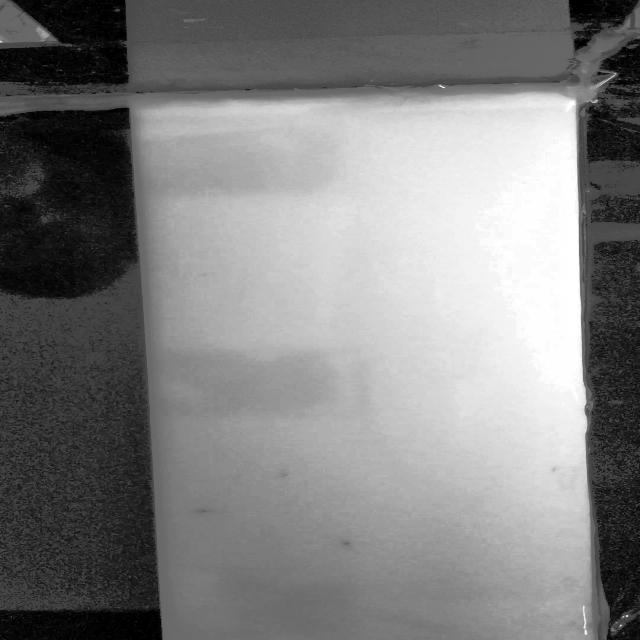shrimp: (334, 538, 365, 550), (190, 506, 219, 514)
